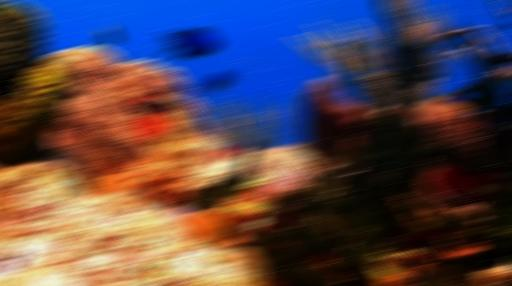Fish: (390, 40, 437, 87), (160, 27, 221, 58), (201, 71, 232, 99), (98, 26, 119, 46), (333, 81, 348, 87)
